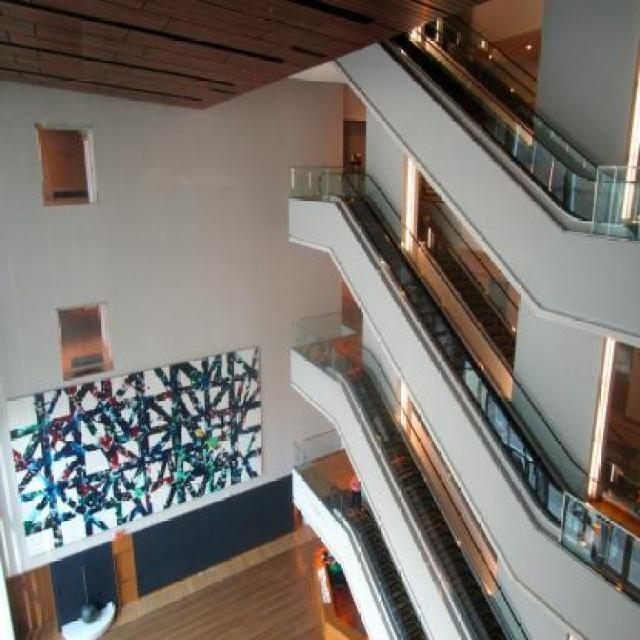stair: (348, 189, 569, 511), (334, 361, 508, 640), (323, 489, 426, 640)
